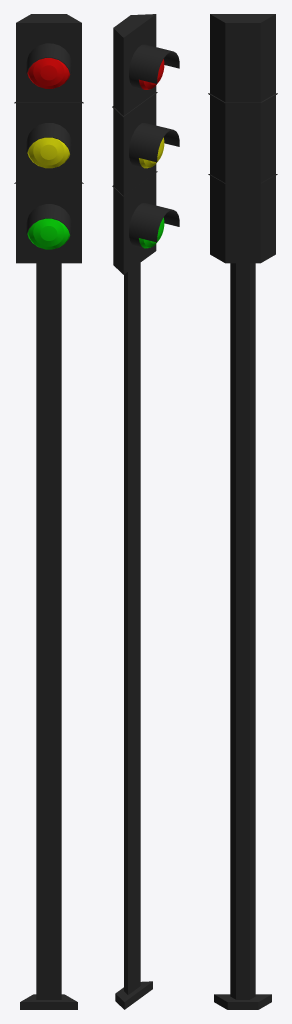
The model's file is SignalPost.fbx.
The picture shows the model from 3 angles, left to right: view 1: azimuth 90°, elevation 25°; view 2: azimuth 150°, elevation 25°; view 3: azimuth 270°, elevation 25°; orthographic projection.
Parts seen in each view (by area): view 1: pCylinder5; view 2: pCylinder5; view 3: pCylinder5.
Boxes of the visible parts, x1=… form: pCylinder5: x1=14, y1=14, x2=83, y2=1009; pCylinder5: x1=112, y1=14, x2=179, y2=1009; pCylinder5: x1=208, y1=14, x2=277, y2=1009.
Bounding box in the file's own units: 0.6958 × 13.62 × 0.8721.
